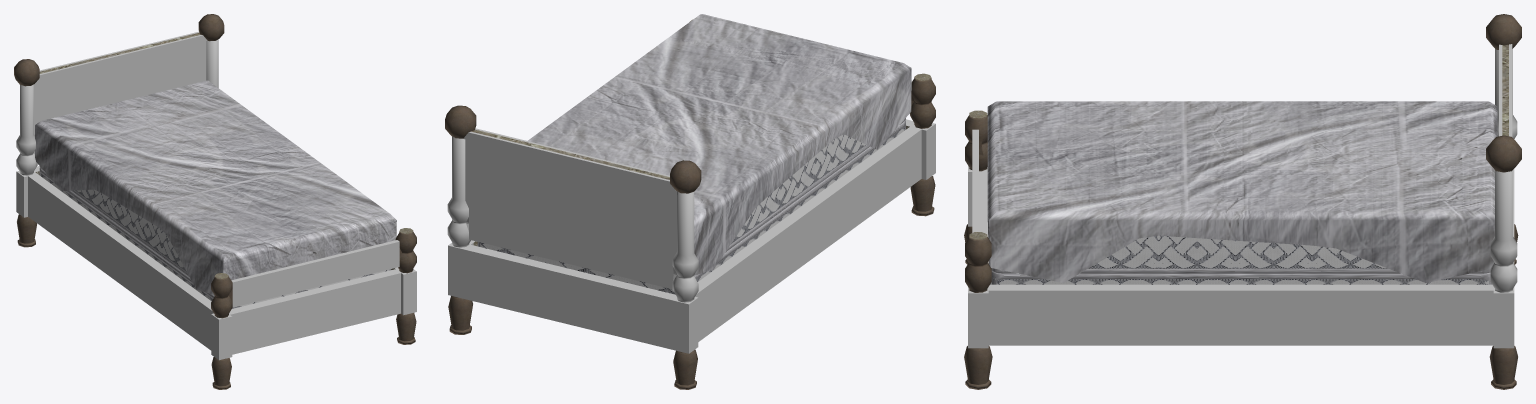
File: BedATwinSheet.fbx
3 renders of one model, left to right at view 1: azimuth 30°, elevation 25°; view 2: azimuth 150°, elevation 25°; view 3: azimuth 270°, elevation 25°, orthographic. The views are drawn at different scales.
Visible parts, largest first — view 1: BedATwinSheet; view 2: BedATwinSheet; view 3: BedATwinSheet.
Boxes of the visible parts, x1,y1,x2,y2 form: BedATwinSheet: (14, 14, 416, 389); BedATwinSheet: (445, 14, 935, 389); BedATwinSheet: (964, 14, 1521, 389).
Size of the model in its own units: 143 by 120 by 246.
